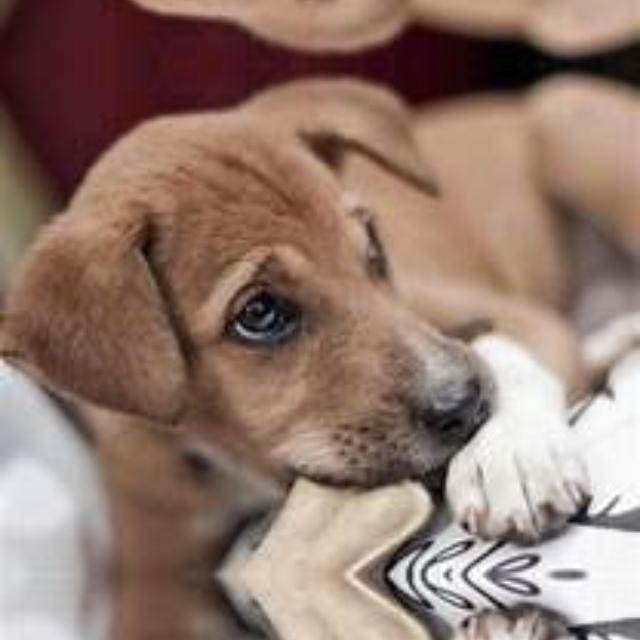dog: (33, 95, 551, 532), (33, 0, 551, 32), (33, 617, 551, 640)
